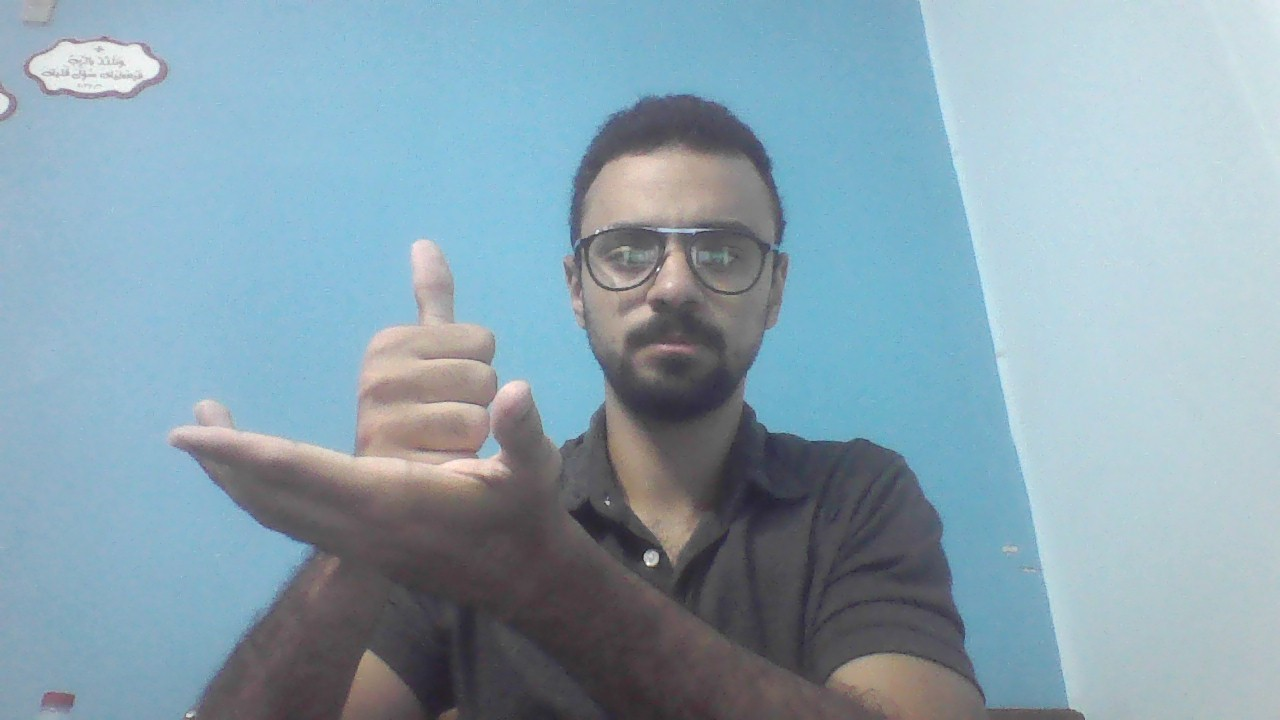help: (174, 230, 569, 603)
